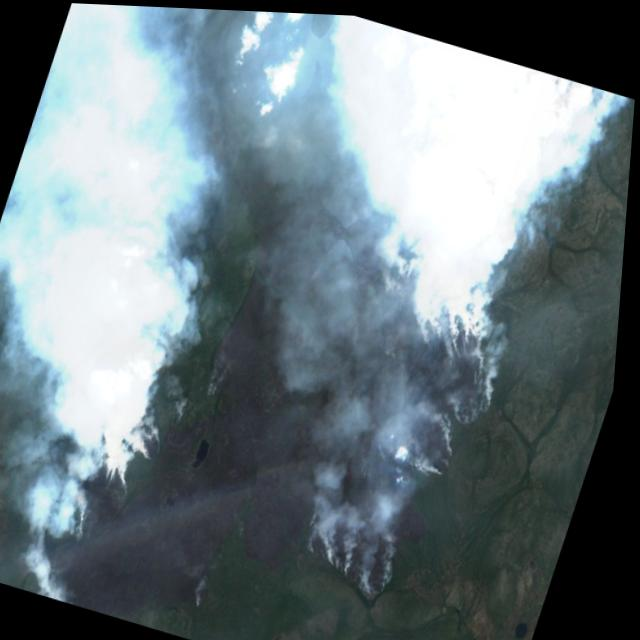fire: (294, 227, 539, 613), (18, 360, 198, 618), (203, 367, 233, 402)
